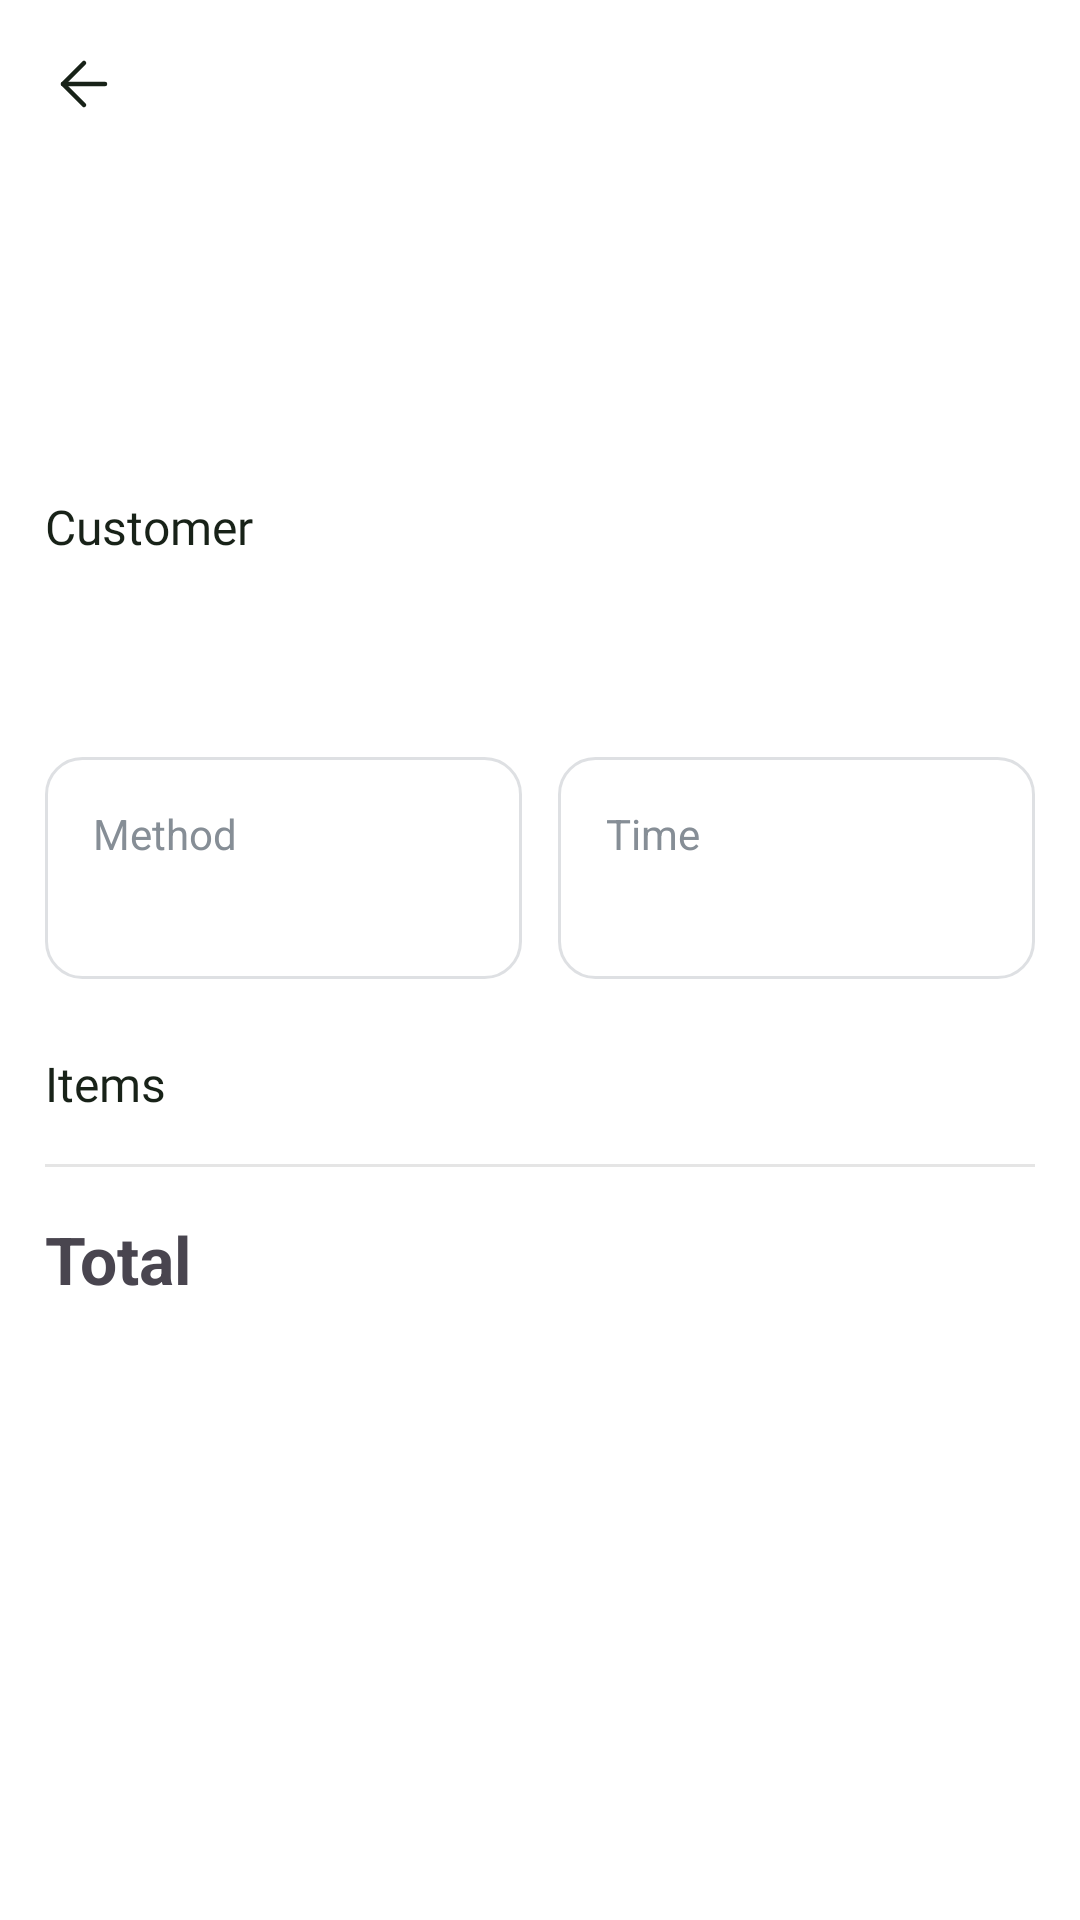

Named icons in this screenshot (1080 × 1920) and their centers, [x,y]:
Back: [83,84]
